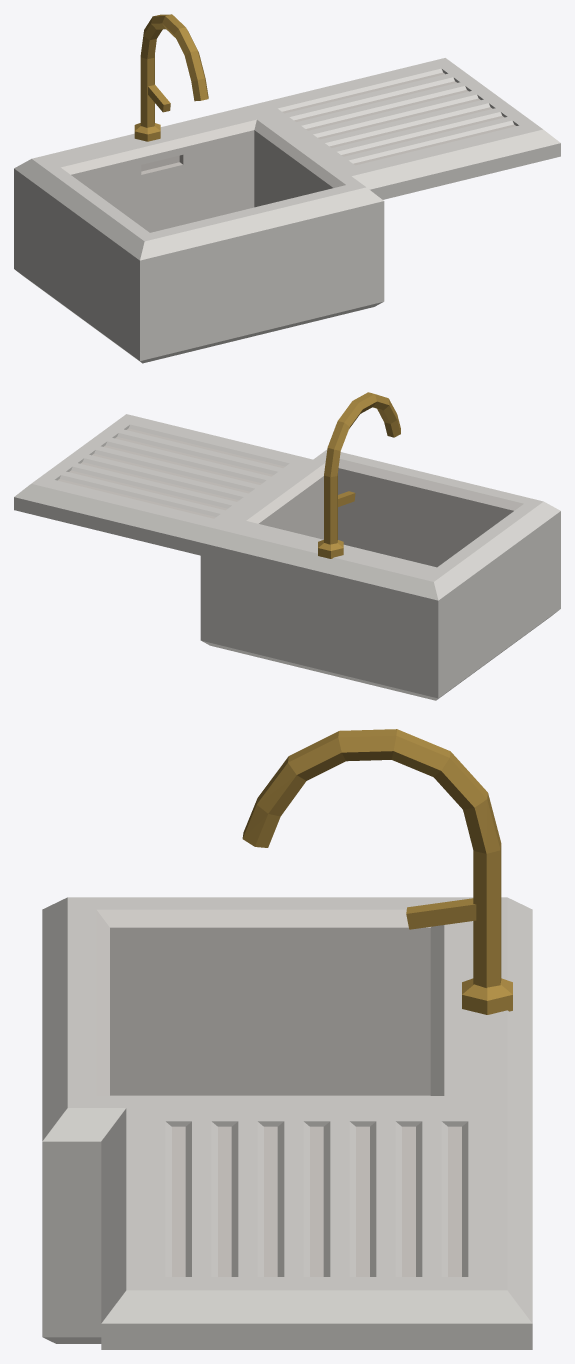
Rendered from home_kitchen_sink.glb.
3 views of the same model, one above another, from view 1: azimuth 30°, elevation 25°; view 2: azimuth 150°, elevation 25°; view 3: azimuth 270°, elevation 25° (orthographic). The views are drawn at different scales.
Visible parts, largest first — view 1: kitchen-sink, tap-spout; view 2: kitchen-sink, tap-spout; view 3: kitchen-sink, tap-spout, tap-lever.
Boxes of the visible parts, x1=… form: kitchen-sink: x1=14, y1=58, x2=560, y2=363; tap-spout: x1=140, y1=14, x2=208, y2=127; kitchen-sink: x1=14, y1=414, x2=560, y2=700; tap-spout: x1=324, y1=392, x2=400, y2=544; kitchen-sink: x1=42, y1=897, x2=532, y2=1349; tap-spout: x1=242, y1=729, x2=501, y2=987; tap-lever: x1=406, y1=898, x2=476, y2=929.
Size of the model in its own units: 1 by 0.5619 by 0.5001.
